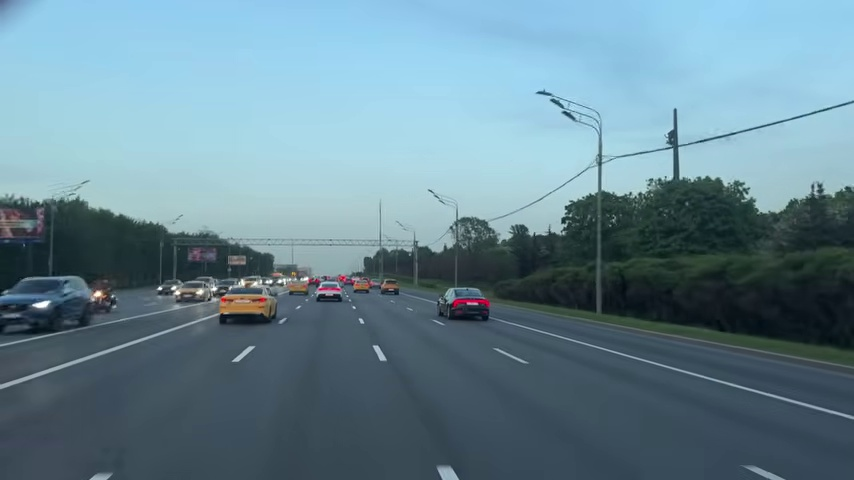apagada: (531, 85, 573, 123), (533, 86, 563, 114), (425, 185, 442, 203)
